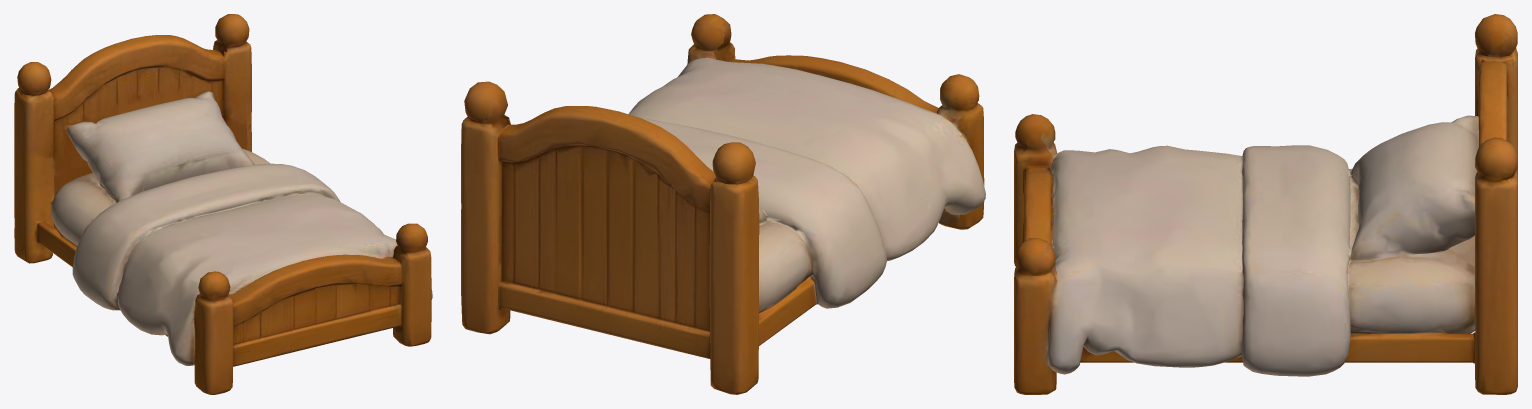
Rendered from bed_basic.glb.
The picture shows the model from 3 angles, left to right: view 1: azimuth 30°, elevation 25°; view 2: azimuth 150°, elevation 25°; view 3: azimuth 270°, elevation 25°; orthographic projection. The views are drawn at different scales.
Parts seen in each view (by area): view 1: textured_mesh.obj; view 2: textured_mesh.obj; view 3: textured_mesh.obj.
Part boxes in pixels (<box>): textured_mesh.obj: <box>14,14,432,394</box>; textured_mesh.obj: <box>461,14,985,394</box>; textured_mesh.obj: <box>1014,14,1517,394</box>.
Size of what is drawn, in the model's own units: 1.38 by 1 by 1.83.
1 material, 1 textured.
